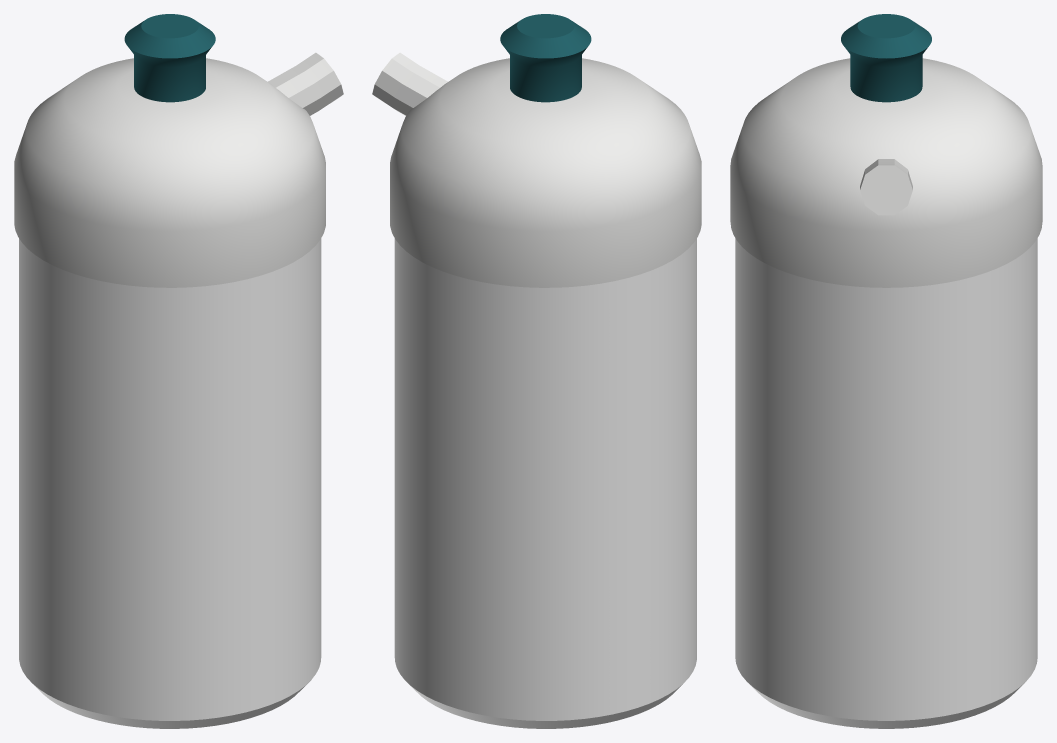
Rendered from kmils.glb.
The picture shows the model from 3 angles, left to right: view 1: azimuth 30°, elevation 25°; view 2: azimuth 150°, elevation 25°; view 3: azimuth 270°, elevation 25°; orthographic projection.
Parts seen in each view (by area): view 1: Kmils 230 ml Glass Oil Dispenser with Brush; view 2: Kmils 230 ml Glass Oil Dispenser with Brush; view 3: Kmils 230 ml Glass Oil Dispenser with Brush.
Part boxes in pixels (left/top/right/bottom): Kmils 230 ml Glass Oil Dispenser with Brush: left=14, top=14, right=343, bottom=728; Kmils 230 ml Glass Oil Dispenser with Brush: left=372, top=14, right=701, bottom=728; Kmils 230 ml Glass Oil Dispenser with Brush: left=730, top=14, right=1042, bottom=728.
Size of the model in its own units: 0.0724 by 0.148 by 0.065.
